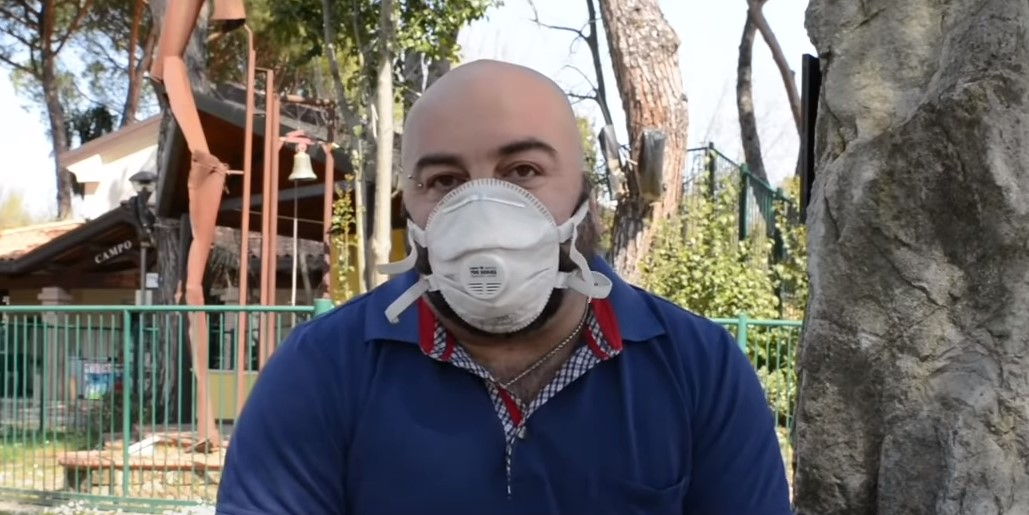face_with_mask: (401, 59, 599, 332)
